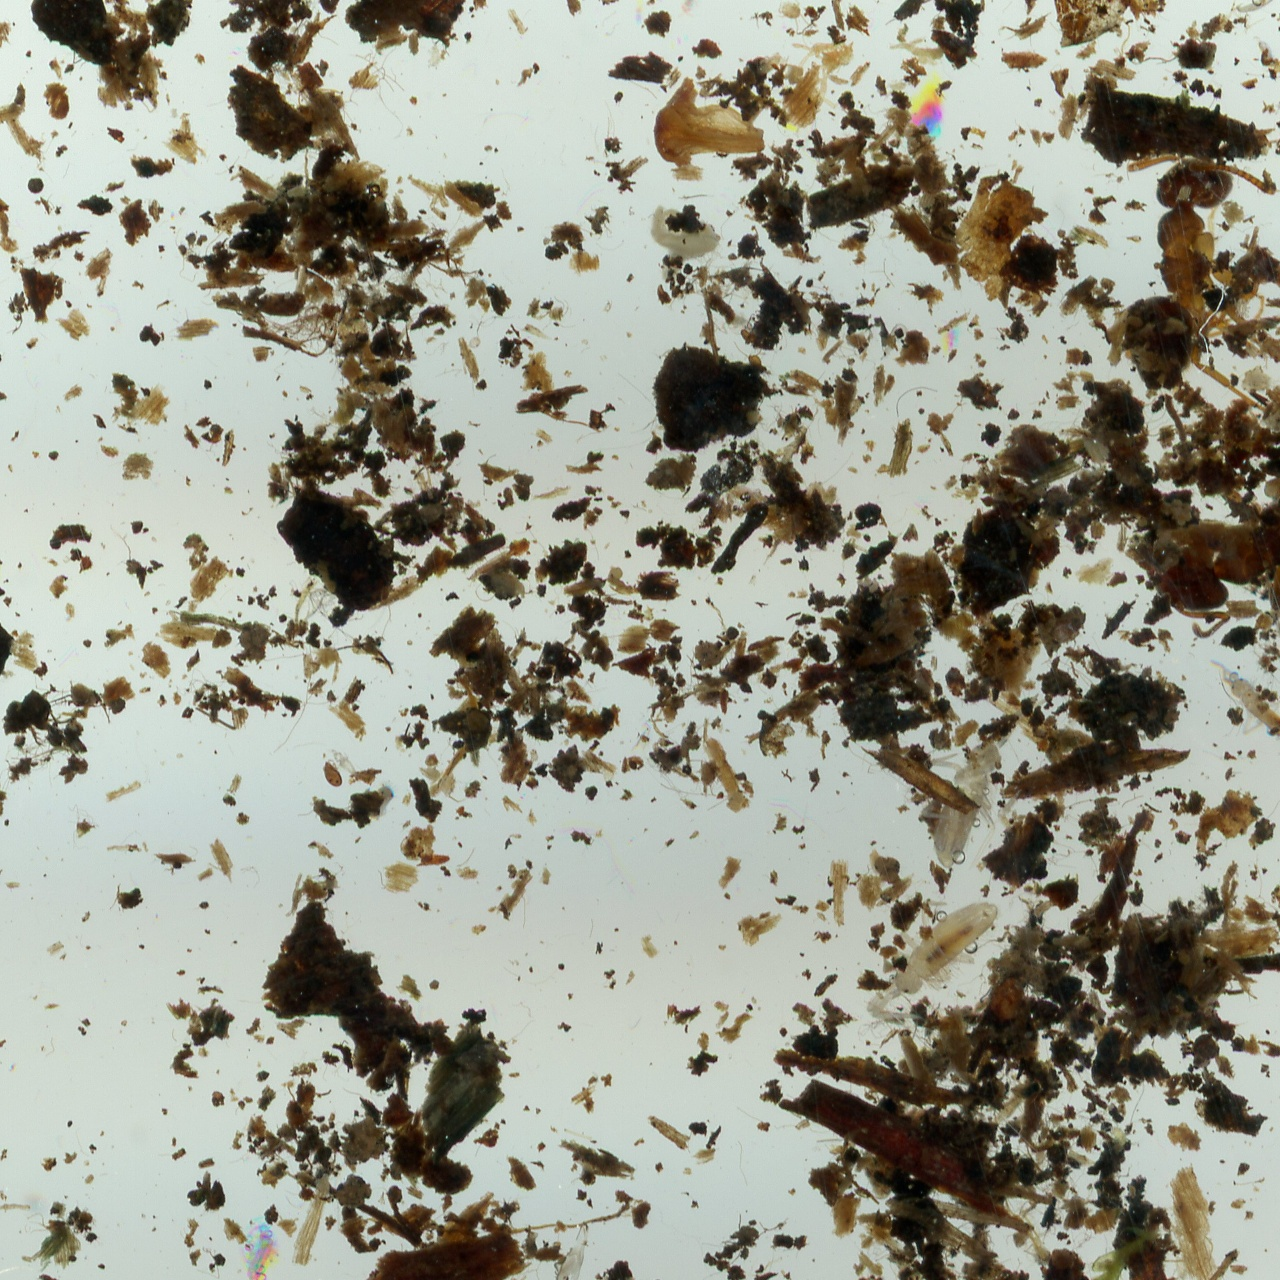arthropod: (1095, 146, 1280, 416), (1127, 390, 1280, 643), (834, 860, 1020, 1049), (898, 663, 1053, 887), (1185, 644, 1280, 766), (788, 40, 859, 111), (243, 1220, 282, 1280), (775, 0, 819, 37), (324, 743, 363, 781), (1249, 33, 1280, 71), (675, 0, 701, 23), (860, 0, 909, 10), (1267, 88, 1280, 119)
